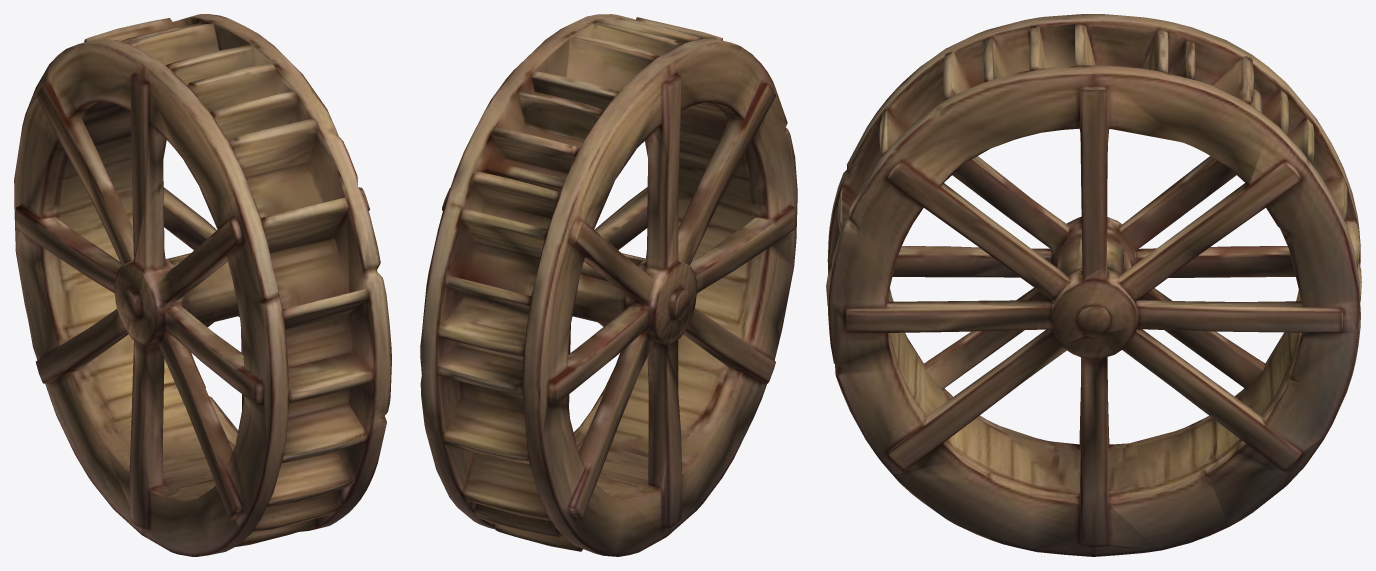
The model's file is 水车轮.glb.
3 renders of one model, left to right at view 1: azimuth 30°, elevation 25°; view 2: azimuth 150°, elevation 25°; view 3: azimuth 270°, elevation 25°, orthographic. The views are drawn at different scales.
Parts seen in each view (by area): view 1: node_0; view 2: node_0; view 3: node_0.
Part boxes in pixels (x1,y1,x2,y2): node_0: (14,14,391,556); node_0: (420,14,797,556); node_0: (826,14,1361,556).
Size of the model in its own units: 0.3733 by 1.14 by 1.14.
1 material, 1 textured.
